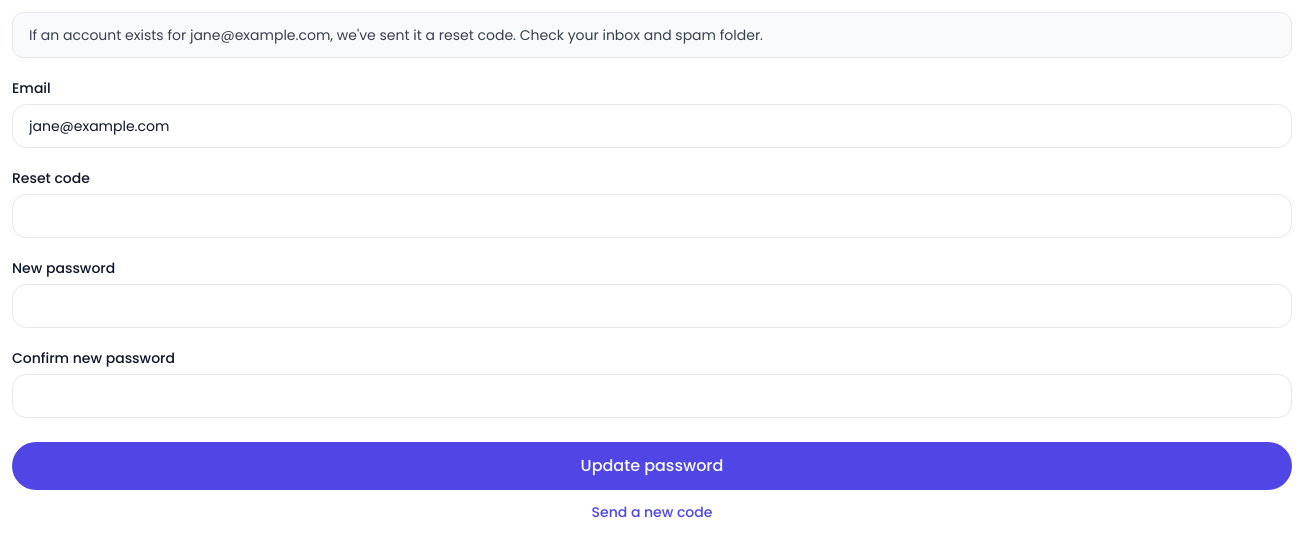
ResetPasswordForm › does not submit when the passwords differ
This screenshot has width=1304, height=535.
Type "123456" into the field labelled "Reset code" at (652, 216), box [12,194,1292,238]
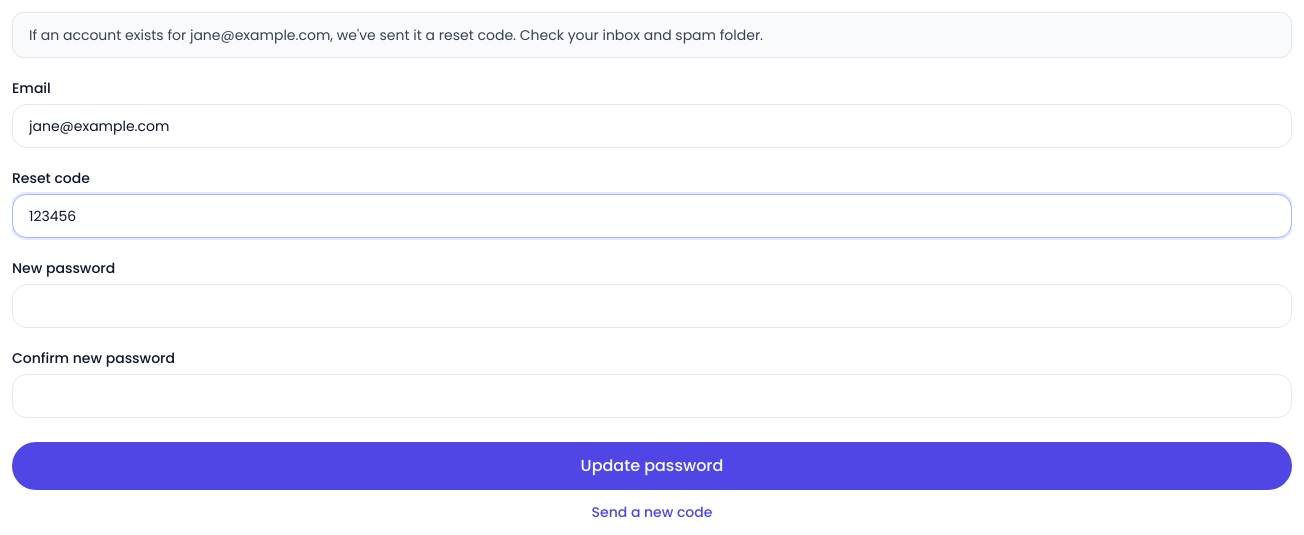
Type "NewPass123!" into the password field labelled "New password" at (652, 306), box [12,284,1292,328]
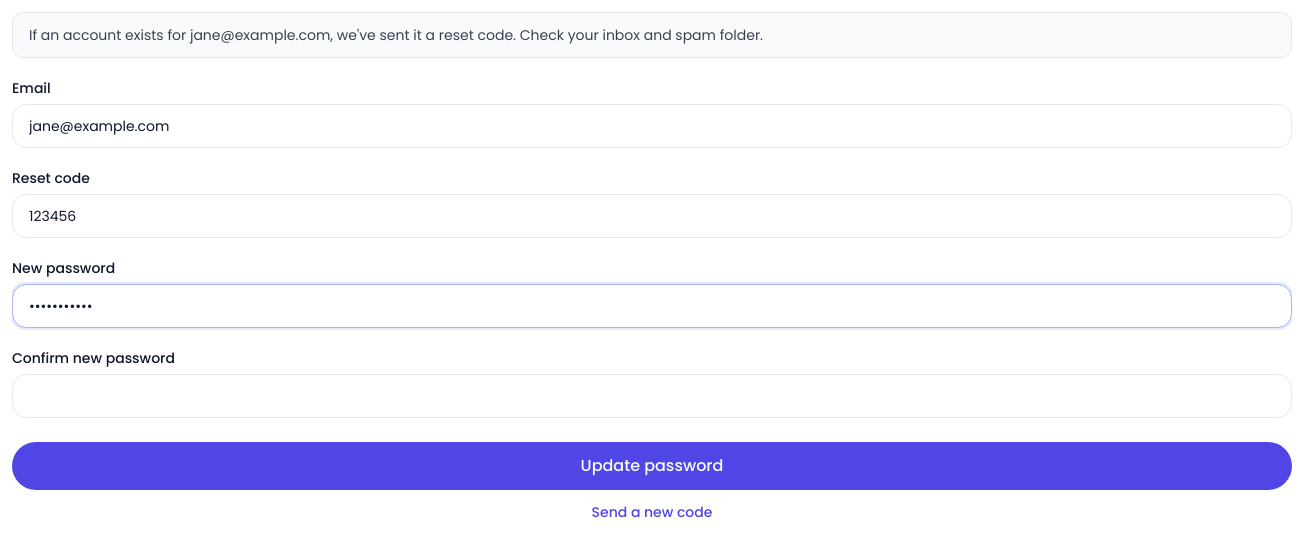
Type "Different1!" into the password field labelled "Confirm new password" at (652, 396), box [12,374,1292,418]
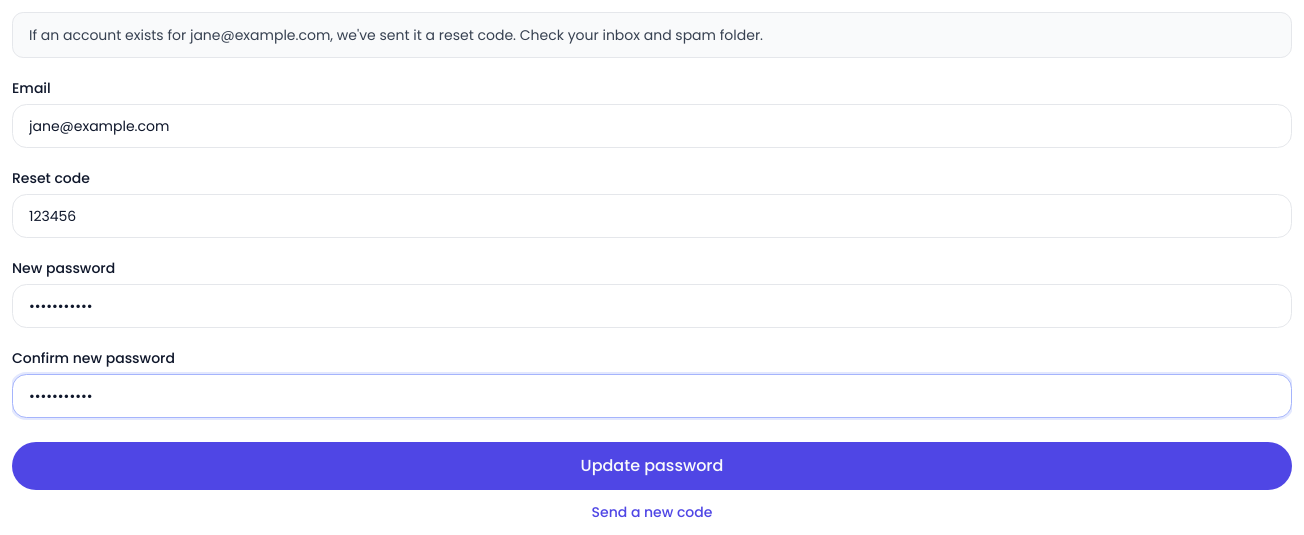
Click the button "Update password" at (652, 466), box [12,442,1292,490]
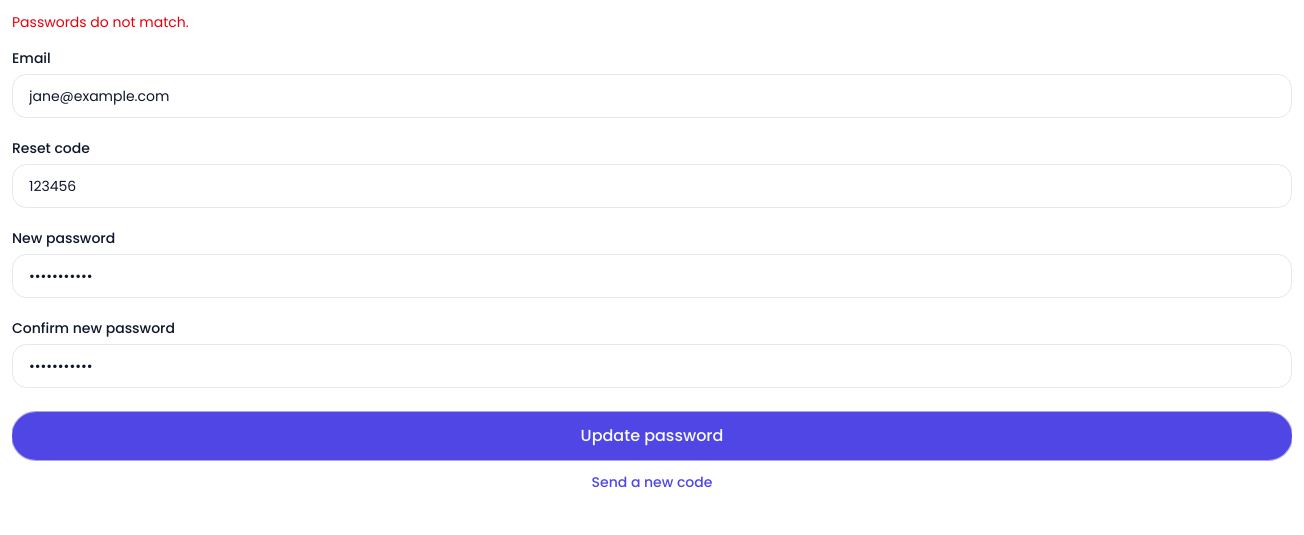
Result: the message reads "Passwords do not match." at [12,12,189,32]
